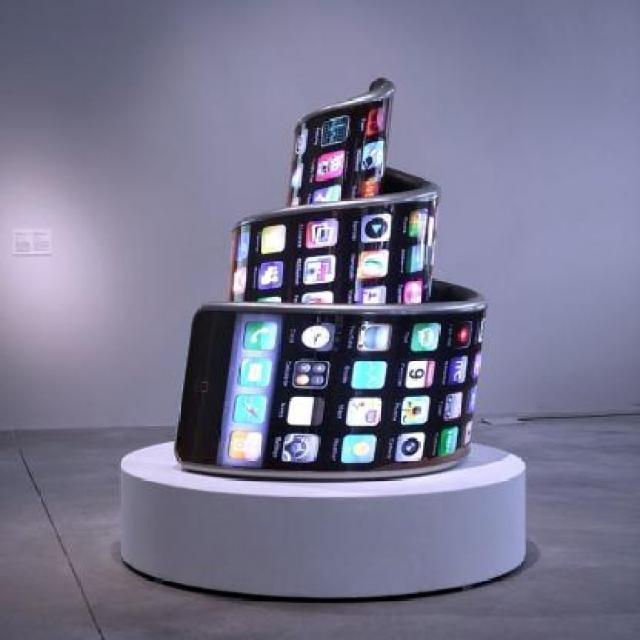phone: (174, 75, 488, 477)
